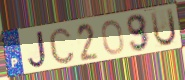2: (76, 22, 101, 63)
9: (125, 12, 152, 53)
C: (48, 26, 77, 66)
J: (26, 29, 48, 71)
O: (100, 19, 126, 56)
U: (149, 7, 178, 49)
